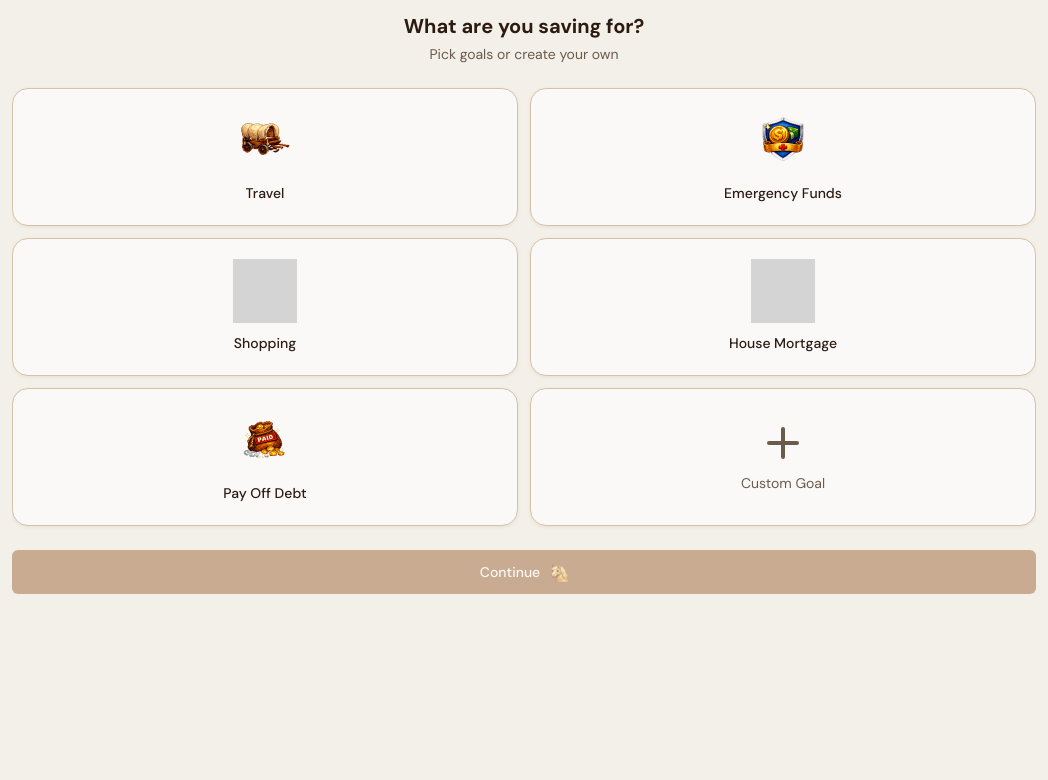
Test: GoalsPage › Continue is enabled after selecting a preset
Step 1. Click the button "Travel" → (265, 157), box [12,88,518,226]
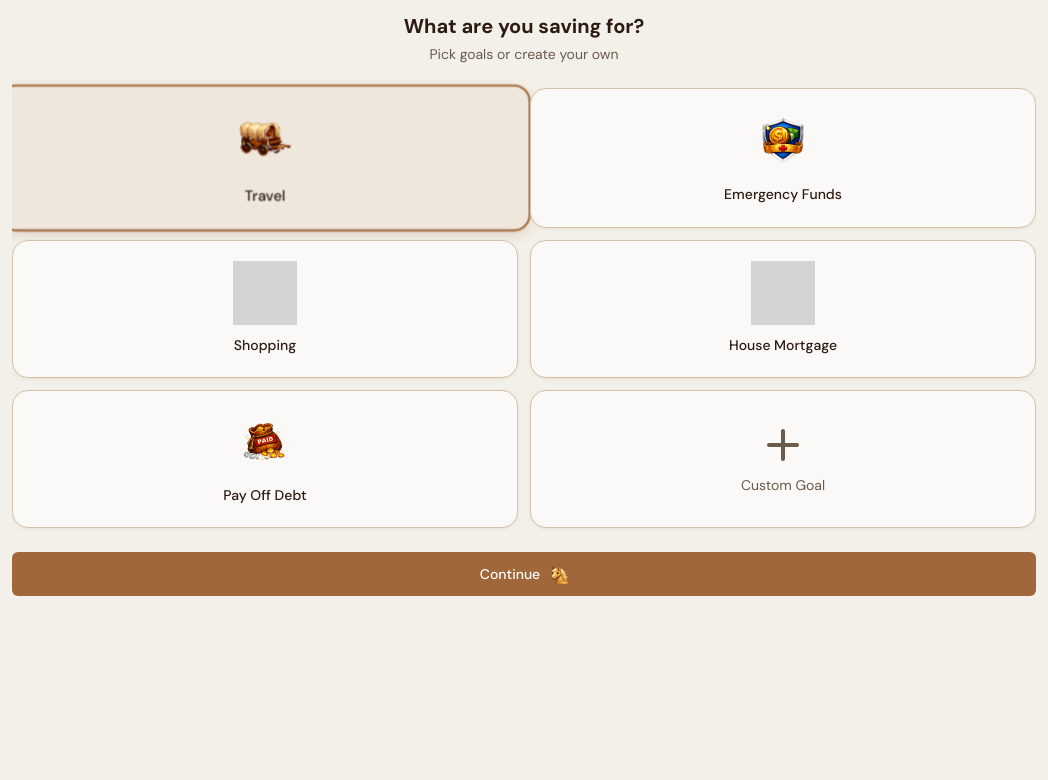
Now the button "Continue" is enabled, box [12,552,1036,596]
